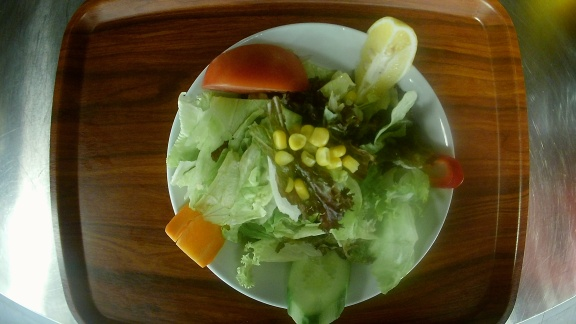salata: (165, 19, 462, 319)
